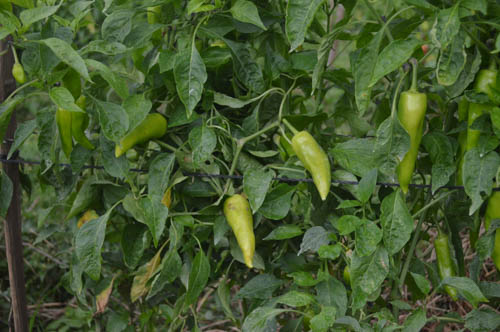ChiliPepper: (467, 69, 496, 179), (395, 92, 425, 197), (291, 133, 334, 198), (111, 114, 170, 158), (227, 195, 257, 270), (432, 236, 461, 294), (68, 95, 98, 150), (56, 105, 74, 156)
